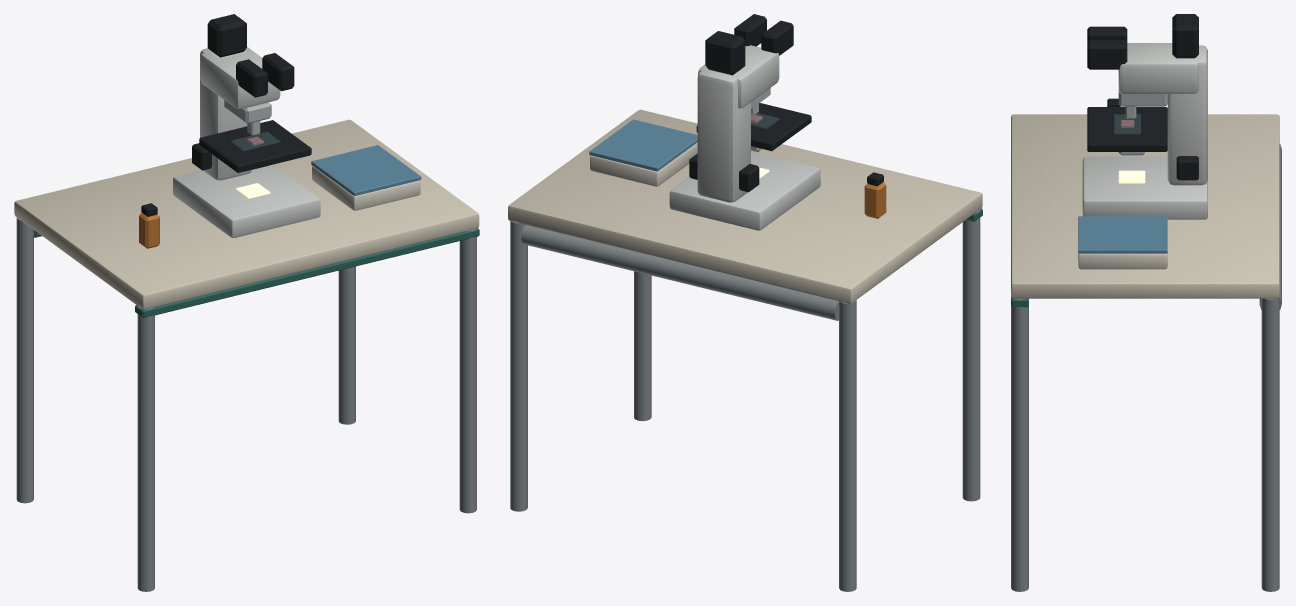
Rendered from microscope.glb.
3 renders of one model, left to right at view 1: azimuth 30°, elevation 25°; view 2: azimuth 150°, elevation 25°; view 3: azimuth 270°, elevation 25°, orthographic. The views are drawn at different scales.
Parts seen in each view (by area): view 1: microscope; view 2: microscope; view 3: microscope.
Boxes of the visible parts, box(x1,y1,x2,y2) form: microscope: box(14, 14, 479, 591); microscope: box(508, 14, 982, 591); microscope: box(1011, 14, 1281, 591).
Size of the model in its own units: 0.9 by 1.2 by 0.605.
